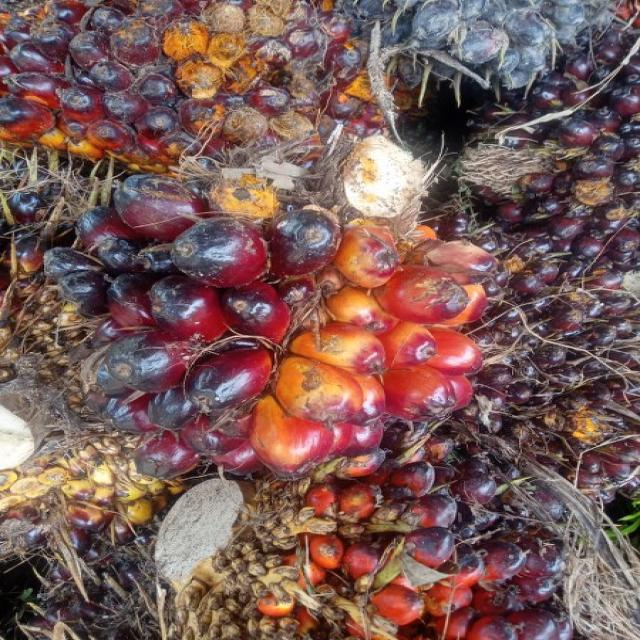fraksi 1: (23, 157, 524, 508)
